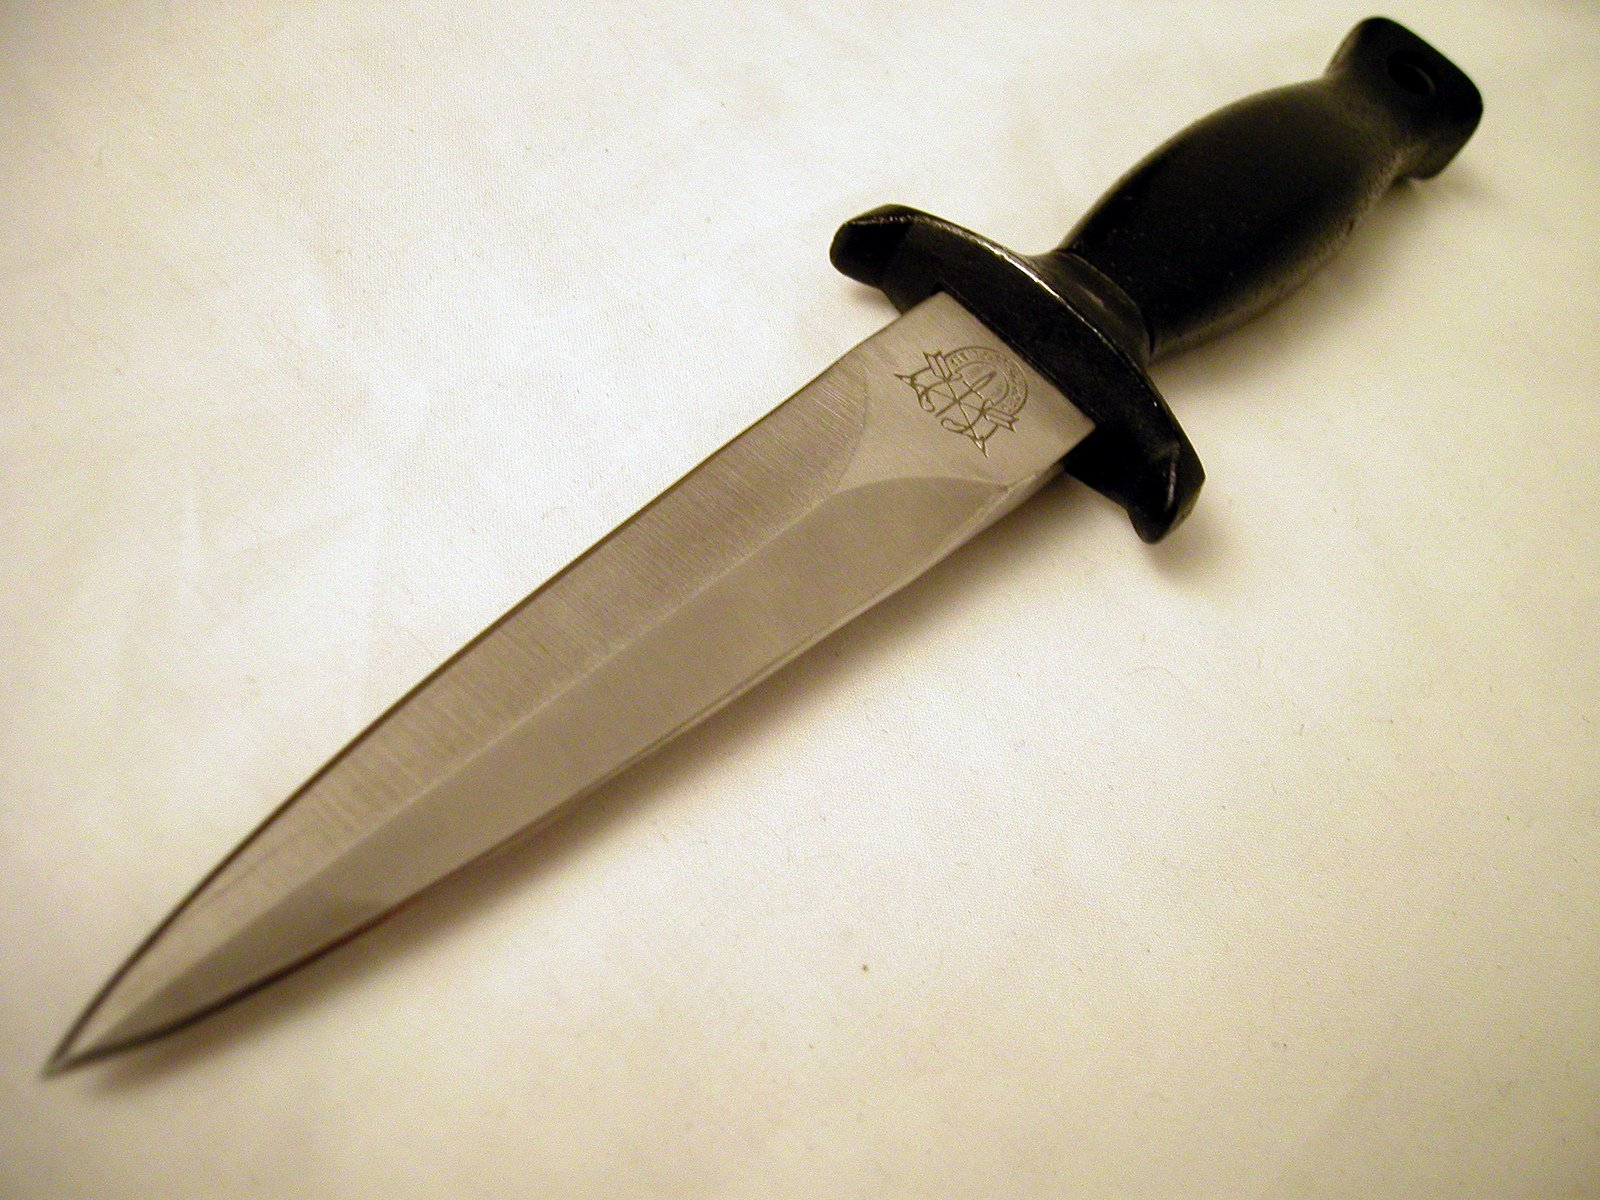knife: (38, 14, 1499, 1084)
